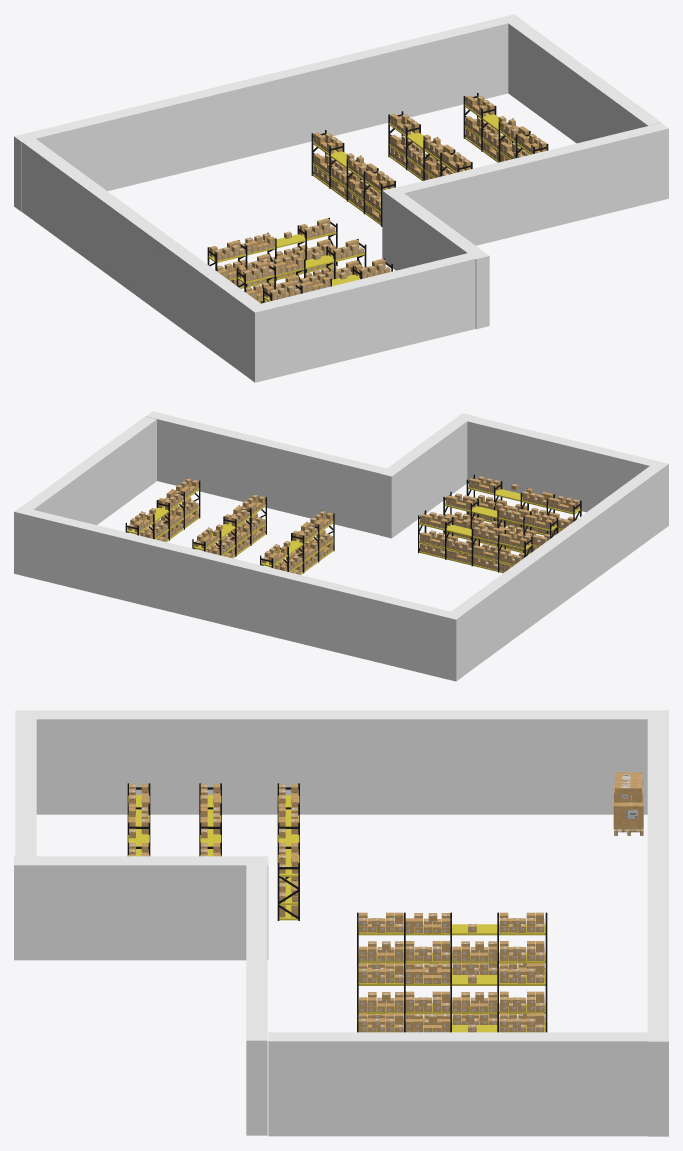
The model's file is SmallLaserWarehouse.glb.
3 renders of one model, top to bottom at view 1: azimuth 30°, elevation 25°; view 2: azimuth 150°, elevation 25°; view 3: azimuth 270°, elevation 25°, orthographic. The views are drawn at different scales.
Parts seen in each view (by area): view 1: Box007, Box006, Box003, Box004, box (×6), Box001, Box002, metal_base (×3), boards (×2); view 2: Box007, Box003, Box006, box (×6), Box004, Box001, Box002, boards (×6), metal_base (×6); view 3: Box006, Box001, Box002, box (×6), Box007, Box003, boards (×3), Box004, Cube.003, metal_base.
Part boxes in pixels (x1,y1,x2,y2): Box007: (14, 14, 521, 211); Box006: (19, 138, 264, 376); Box003: (391, 123, 668, 245); Box004: (247, 252, 478, 382); box (×6): (209, 95, 546, 303); Box001: (508, 19, 661, 143); Box002: (382, 187, 489, 329); metal_base (×3): (207, 93, 548, 287); boards (×2): (208, 142, 388, 288); Box007: (14, 507, 463, 681); Box003: (146, 411, 391, 535); Box006: (447, 466, 661, 675); box (×6): (127, 476, 579, 574); Box004: (460, 415, 668, 530); Box001: (21, 416, 156, 525); Box002: (380, 413, 474, 538); boards (×6): (127, 486, 580, 574); metal_base (×6): (125, 474, 581, 573); Box006: (24, 710, 660, 814); Box001: (268, 1032, 649, 1136); Box002: (14, 856, 268, 960); box (×6): (128, 783, 544, 1032); Box007: (647, 710, 668, 1136); Box003: (246, 861, 267, 1135); boards (×3): (278, 795, 545, 1024); Box004: (15, 710, 36, 862); Cube.003: (613, 772, 643, 829); metal_base: (277, 783, 299, 920).
Size of the model in its own units: 151 by 20.2 by 126.
Materials: 8 (4 with a texture image).
